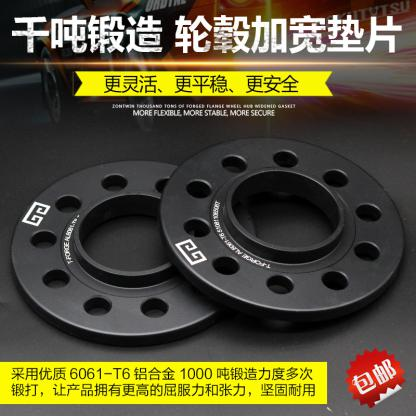FOD: (156, 129, 408, 319), (7, 155, 256, 344)
